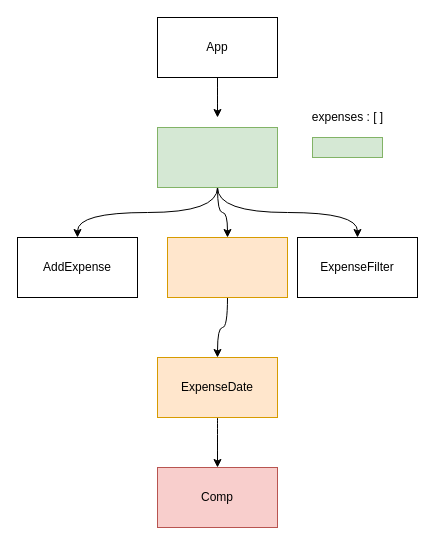
This 435x545 diagram has some shape labels left out. The centre of each missing label's shape, as x and y in pixels:
ExpenseItem: the point at 227,267
Expenses: the point at 217,157
setState(): the point at 347,147
